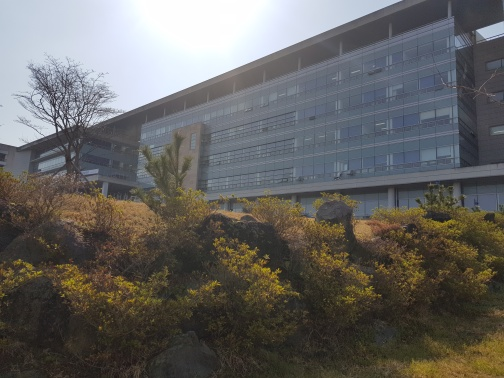Engineering College Building 4: (8, 85, 503, 187), (360, 14, 497, 210), (244, 48, 350, 204)
